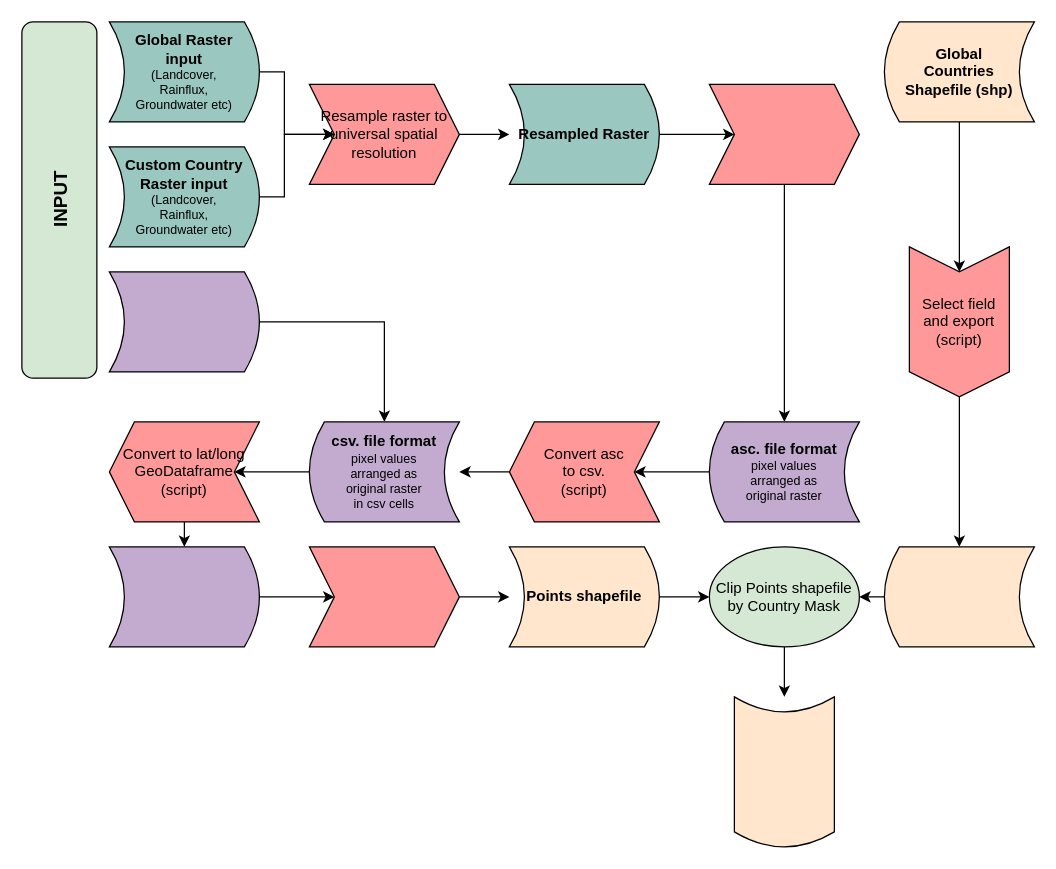
This 1056x869 diagram has some shape labels left out. The box of each missing label's shape, as (x1, y1, x2, y2) in pixels:
Convert csv. file to shapefile: (308, 546, 459, 647)
Convert to asc. (currently done on QGIS): (708, 83, 859, 184)
Country specific points shapefile: (733, 696, 834, 847)
csv. file input (AEZ): (108, 271, 259, 372)
Individual Countries Shapefile (shp): (883, 546, 1034, 647)
Points in lat/long csv. (XYZ): (108, 546, 259, 647)
